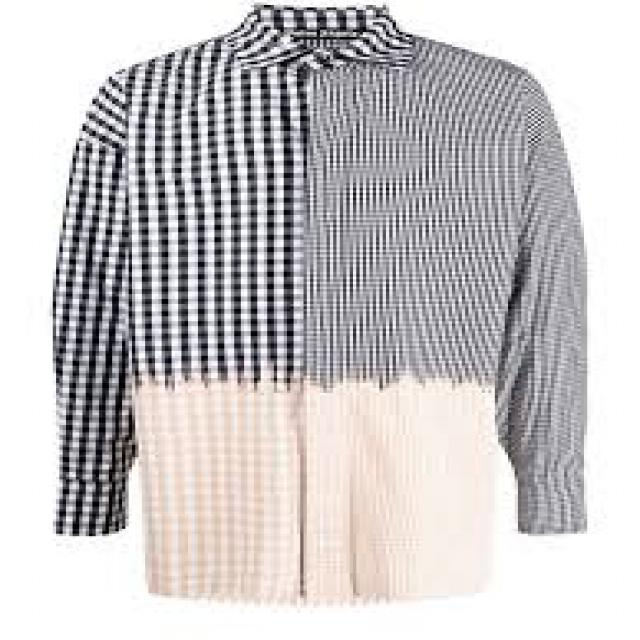plaid: (26, 0, 598, 614)
